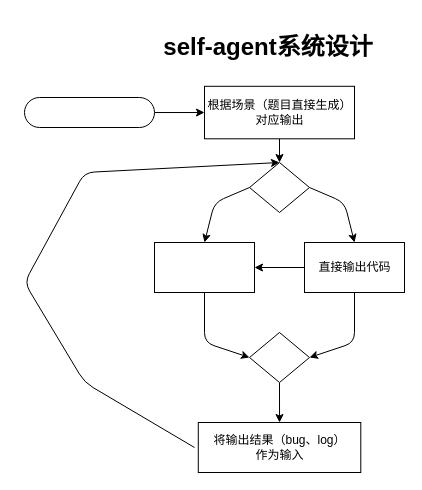
The diagram is 422 pixels wide and 490 high, and some of its shapes have lost their labels. The shapes that lost their labels are listed below. From the top down, each one's centre as x and y in pixels, then its label:
At [89,112]: "输入场景（题目）".
At [204,267]: "作为终端调用工具".
